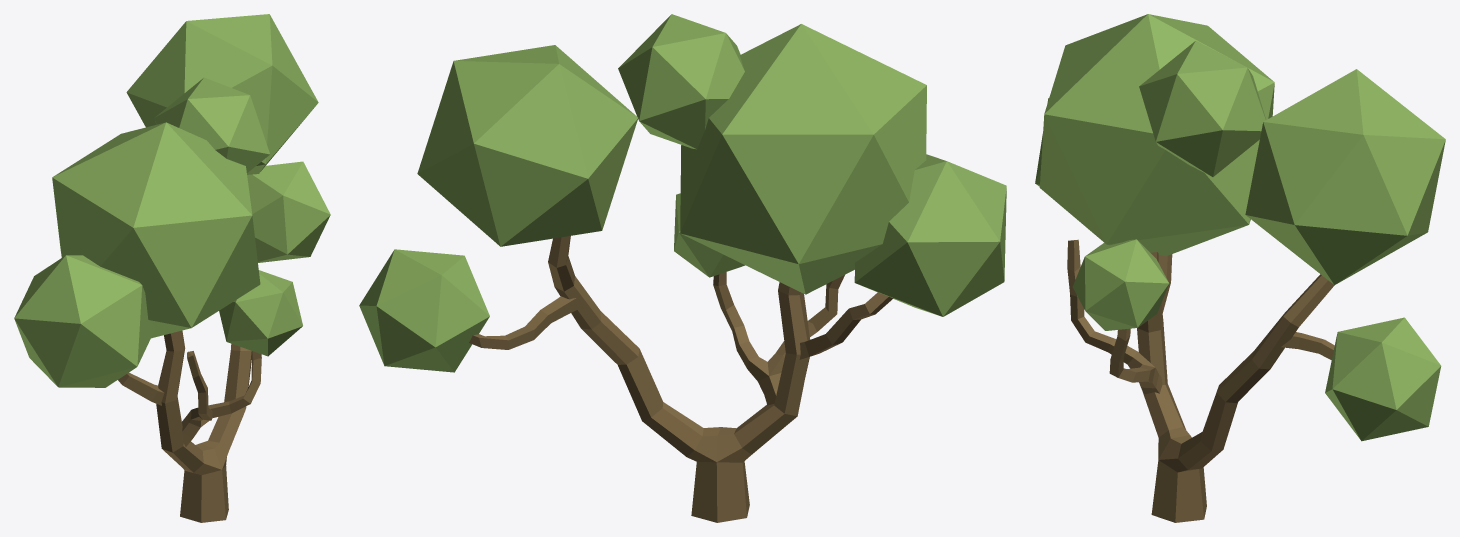
Rendered from Lowpoly_tree_sample.glb.
3 renders of one model, left to right at view 1: azimuth 30°, elevation 25°; view 2: azimuth 150°, elevation 25°; view 3: azimuth 270°, elevation 25°, orthographic. The views are drawn at different scales.
Parts seen in each view (by area): view 1: Tree_lp_11; view 2: Tree_lp_11; view 3: Tree_lp_11.
Part boxes in pixels (x1,y1,x2,y2): Tree_lp_11: [14, 14, 330, 522]; Tree_lp_11: [359, 14, 1006, 522]; Tree_lp_11: [1035, 14, 1445, 522].
Size of the model in its own units: 27.98 by 26.54 by 20.8.
